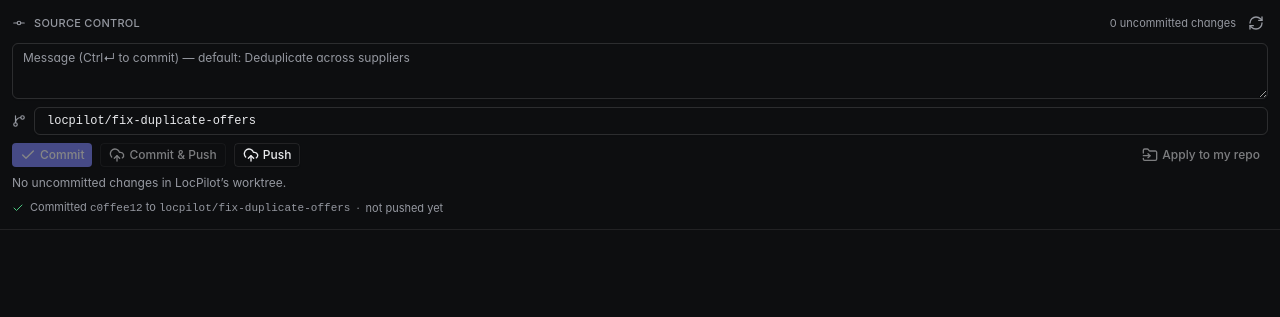
Test: SourceControl › surfaces a failed push with its hint
Click the button "Push" at [267, 155], box 234,143 -> 300,167
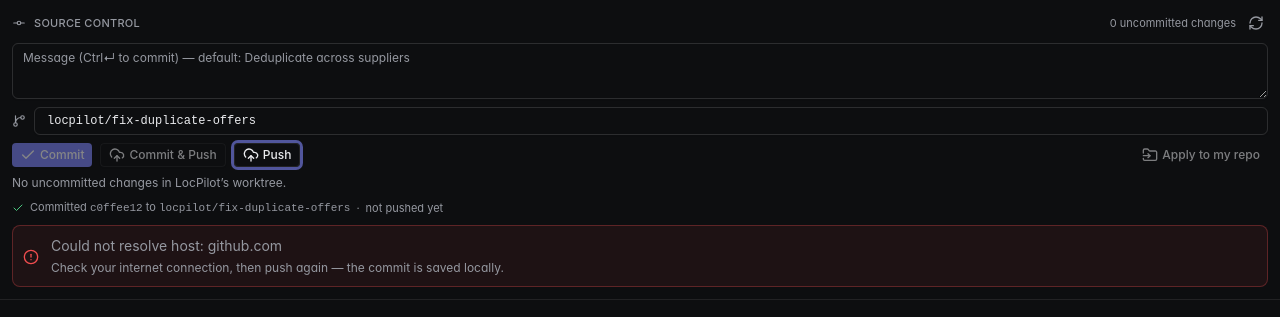
Result: the text "Could not resolve host: github.com" is shown at 51,236 -> 282,254
Result: the text "the commit is saved locally" is shown at 51,260 -> 504,274
